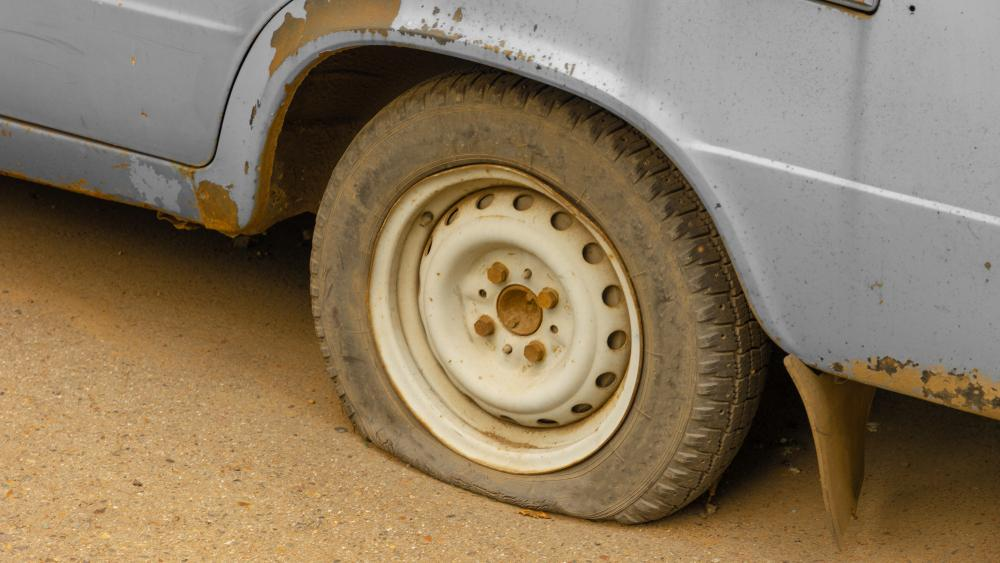tire flat: (307, 67, 766, 521)
